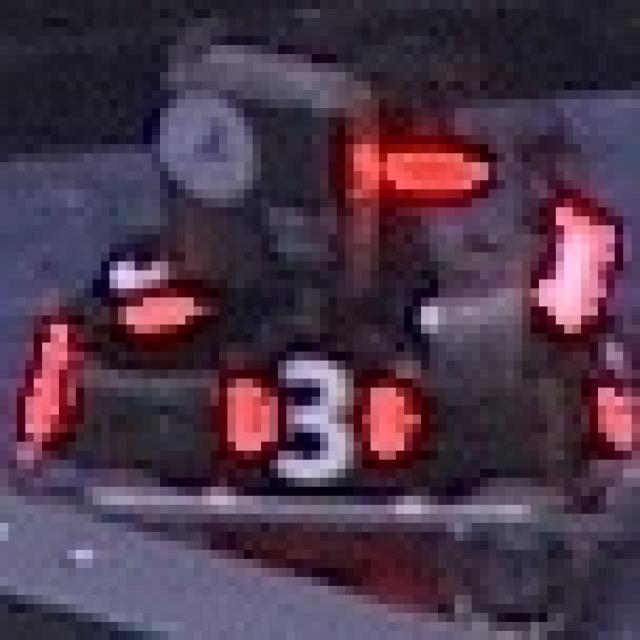R3: (228, 342, 404, 478)
